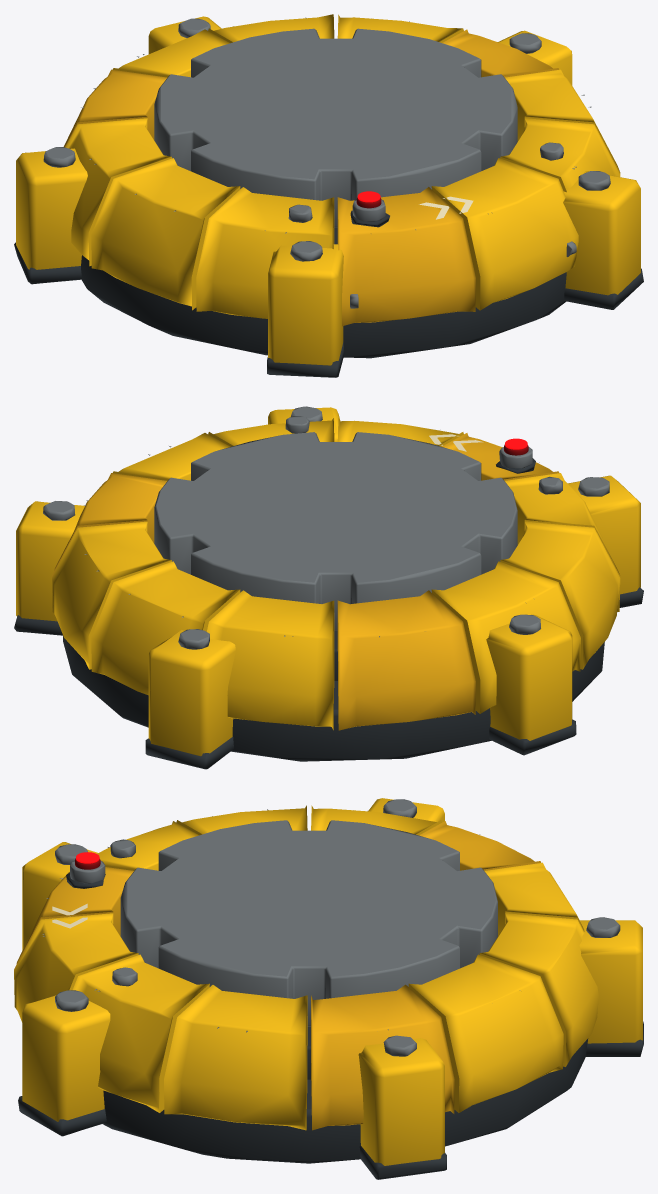
File: mine.glb
The picture shows the model from 3 angles, top to bottom: view 1: azimuth 30°, elevation 25°; view 2: azimuth 150°, elevation 25°; view 3: azimuth 270°, elevation 25°; orthographic projection. The views are drawn at different scales.
Parts seen in each view (by area): view 1: MineRoot_Yellow enamel, Notched metal center, MineRoot_Warm enamel, MineRoot_Dark chassis, MineRoot_Pressure plate steel; view 2: MineRoot_Yellow enamel, Notched metal center, MineRoot_Warm enamel, MineRoot_Dark chassis, MineRoot_Pressure plate steel; view 3: MineRoot_Yellow enamel, Notched metal center, MineRoot_Dark chassis, MineRoot_Warm enamel, MineRoot_Pressure plate steel.
Part boxes in pixels (x1=…): MineRoot_Yellow enamel: x1=16, y1=14, x2=640, y2=365; Notched metal center: x1=154, y1=28, x2=517, y2=227; MineRoot_Warm enamel: x1=63, y1=29, x2=559, y2=326; MineRoot_Dark chassis: x1=14, y1=210, x2=643, y2=377; MineRoot_Pressure plate steel: x1=43, y1=18, x2=610, y2=308; MineRoot_Yellow enamel: x1=16, y1=407, x2=640, y2=756; Notched metal center: x1=154, y1=432, x2=517, y2=630; MineRoot_Warm enamel: x1=52, y1=433, x2=559, y2=730; MineRoot_Dark chassis: x1=14, y1=458, x2=643, y2=769; MineRoot_Pressure plate steel: x1=43, y1=406, x2=609, y2=649; MineRoot_Yellow enamel: x1=14, y1=798, x2=642, y2=1165; Notched metal center: x1=120, y1=820, x2=497, y2=1026; MineRoot_Dark chassis: x1=18, y1=873, x2=643, y2=1179; MineRoot_Warm enamel: x1=14, y1=821, x2=541, y2=1130; MineRoot_Pressure plate steel: x1=55, y1=799, x2=620, y2=1056.
Bounding box in the file's own units: 0.9271 × 0.2355 × 0.8875.
